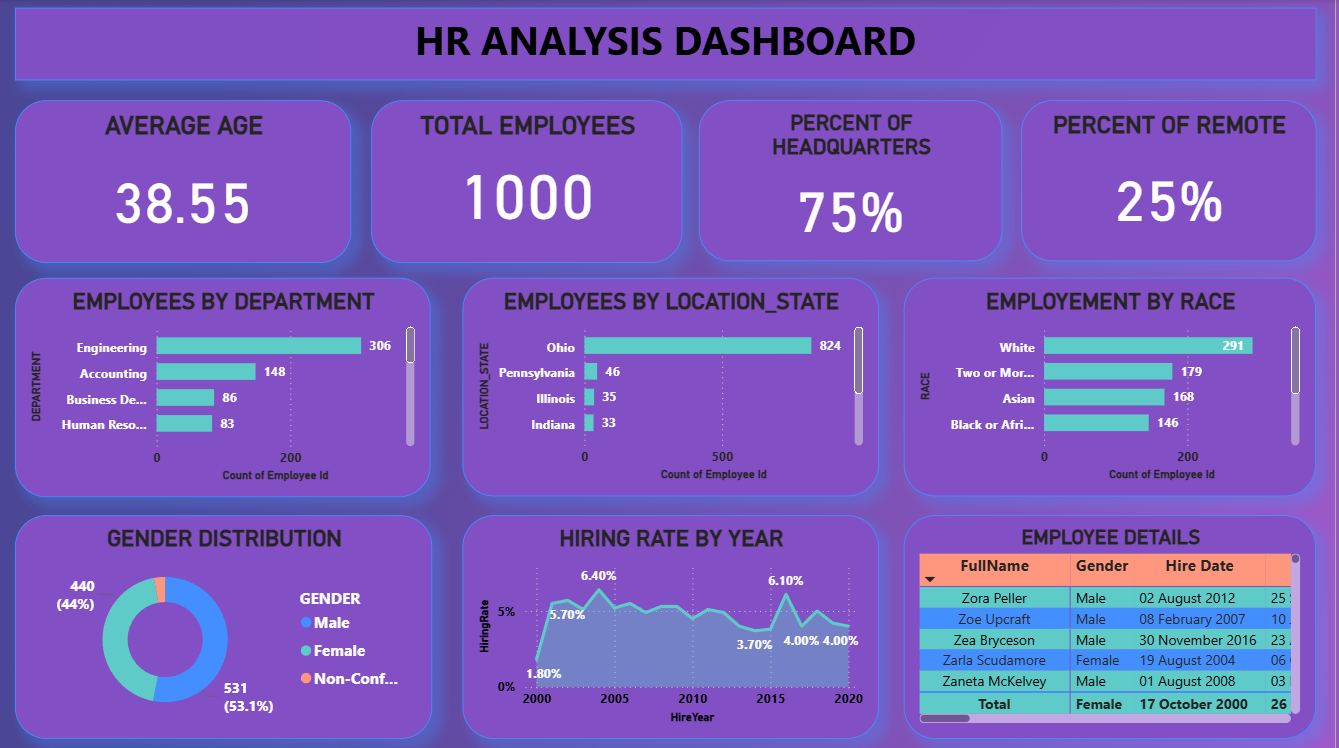

What the dashboard file says about the page in this screenshot:
{"tool":"powerbi","page":{"name":"Page 1","canvas":[1280,720],"ordinal":0},"visuals":[{"type":"lineChart","title":"HIRING RATE BY YEAR","fields":{"Category":["Hrdatapro.HireYear"],"Y":["Hrdatapro.HiringRate"]},"box":[443.4,495,399.1,214.5],"z":0},{"type":"donutChart","title":"GENDER DISTRIBUTION","fields":{"Category":["Hrdatapro.gender"],"Y":["Hrdatapro.id"]},"box":[14.4,495,400.3,214.5],"z":1000},{"type":"clusteredBarChart","title":"EMPLOYEES BY LOCATION_STATE","fields":{"Y":["Hrdatapro.id"],"Category":["Hrdatapro.location_state"]},"box":[443.4,267.3,399.1,209.7],"z":2000},{"type":"clusteredBarChart","title":"EMPLOYEES BY DEPARTMENT ","fields":{"Category":["Hrdatapro.department"],"Y":["Hrdatapro.id"]},"box":[14.7,267.1,398.5,210.3],"z":3000},{"type":"clusteredBarChart","title":"EMPLOYEMENT BY RACE","fields":{"Y":["Hrdatapro.id"],"Category":["Hrdatapro.race"]},"box":[866.5,267.3,395.5,209.7],"z":4000},{"type":"card","title":"AVERAGE AGE","fields":{"Values":["Hrdatapro.Age"]},"box":[14.7,96.7,322.8,155.6],"z":5000},{"type":"kpi","title":"TOTAL EMPLOYEES","fields":{"Indicator":["Hrdatapro.TotalEmployees"],"TrendLine":["Hrdatapro.id"]},"box":[356.4,96.7,298.7,155.8],"z":6000},{"type":"card","title":"PERCENT OF REMOTE","fields":{"Values":["select","select1","select2","Hrdatapro.PercentRemote"]},"box":[979.2,97.1,282.8,154.6],"z":7000},{"type":"card","title":"PERCENT OF HEADQUARTERS","fields":{"Values":["Hrdatapro.PercentHQ"]},"box":[669.4,96.7,291.4,154.4],"z":8000},{"type":"textbox","box":[14.4,8.4,1247.6,69.5],"z":9000},{"type":"pivotTable","title":"EMPLOYEE DETAILS","fields":{"Rows":["Hrdatapro.FullName"],"Values":["Hrdatapro.gender","Hrdatapro.hire_date","Hrdatapro.birthdate","Hrdatapro.Age","Hrdatapro.id","Hrdatapro.department","Hrdatapro.jobtitle","Hrdatapro.location","Hrdatapro.location_state","Hrdatapro.race","Hrdatapro.employment_status"]},"box":[866.5,495,395.5,214.5],"z":10000}]}

Visuals, with their boxes in screenshot pixels (x1, y1, x2, y2), scaled from the page's 1280x720 canvas onto the 1339x748 screenshot:
"HIRING RATE BY YEAR" lineChart: bbox(464, 514, 881, 737)
"GENDER DISTRIBUTION" donutChart: bbox(15, 514, 434, 737)
"EMPLOYEES BY LOCATION_STATE" clusteredBarChart: bbox(464, 278, 881, 496)
"EMPLOYEES BY DEPARTMENT " clusteredBarChart: bbox(15, 277, 432, 496)
"EMPLOYEMENT BY RACE" clusteredBarChart: bbox(906, 278, 1320, 496)
"AVERAGE AGE" card: bbox(15, 100, 353, 262)
"TOTAL EMPLOYEES" kpi: bbox(373, 100, 685, 262)
"PERCENT OF REMOTE" card: bbox(1024, 101, 1320, 261)
"PERCENT OF HEADQUARTERS" card: bbox(700, 100, 1005, 261)
textbox: bbox(15, 9, 1320, 81)
"EMPLOYEE DETAILS" pivotTable: bbox(906, 514, 1320, 737)
